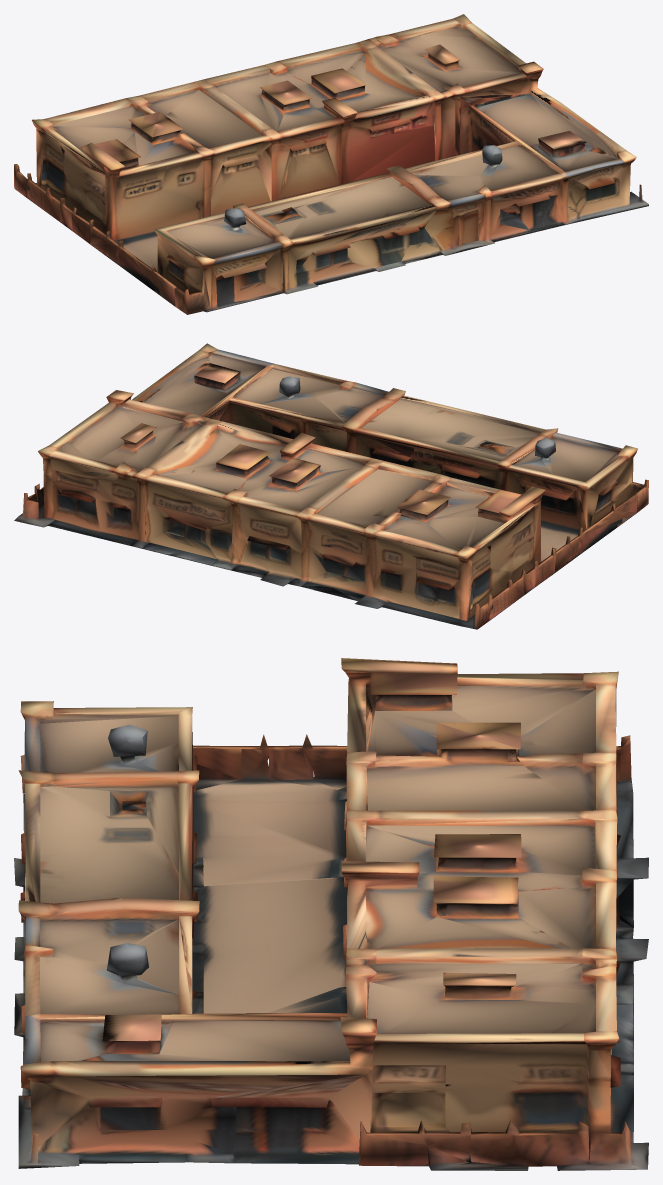
The model's file is BD_PovertyRow.fbx.
3 views of the same model, one above another, from view 1: azimuth 30°, elevation 25°; view 2: azimuth 150°, elevation 25°; view 3: azimuth 270°, elevation 25° (orthographic). The views are drawn at different scales.
Visible parts, largest first — view 1: model; view 2: model; view 3: model.
Part boxes in pixels (x1,y1,x2,y2): model: [14, 14, 648, 314]; model: [14, 343, 648, 629]; model: [14, 658, 648, 1170].
Bounding box in the file's own units: 44 × 30 × 7.
1 material, 1 textured.
